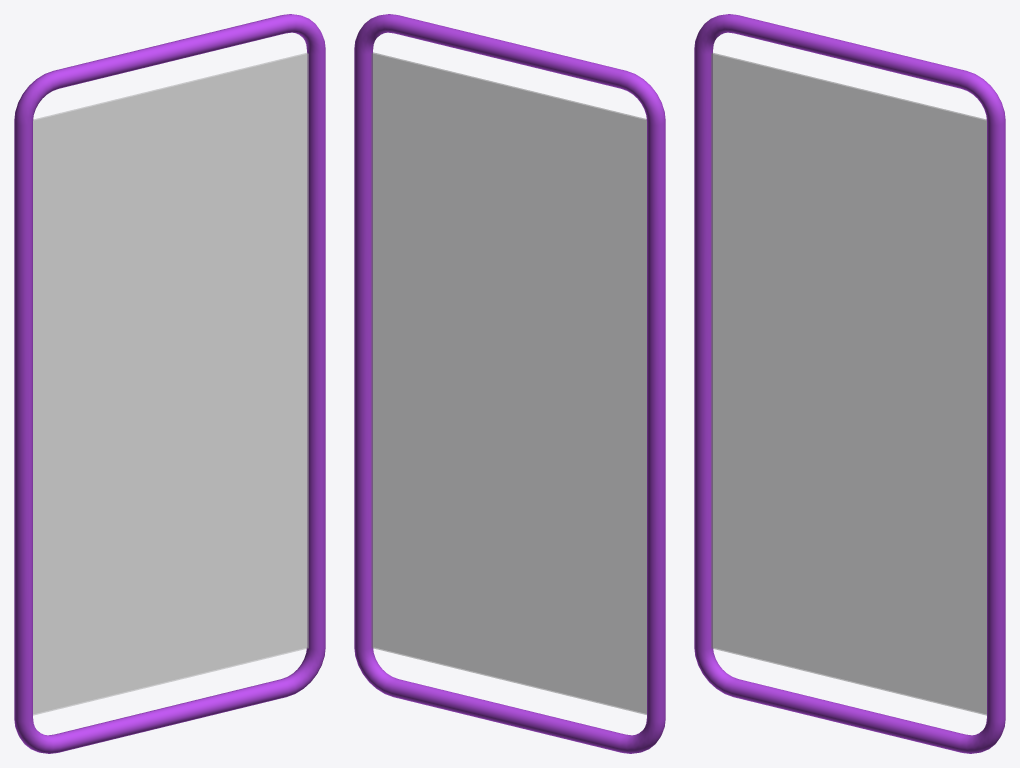
The model's file is Rallings_C_4x2m.FBX.
The picture shows the model from 3 angles, left to right: view 1: azimuth 30°, elevation 25°; view 2: azimuth 150°, elevation 25°; view 3: azimuth 330°, elevation 25°; orthographic projection.
Parts seen in each view (by area): view 1: Rallings_C_4x2m; view 2: Rallings_C_4x2m; view 3: Rallings_C_4x2m.
Part boxes in pixels (x1,y1,x2,y2): Rallings_C_4x2m: [14, 14, 325, 753]; Rallings_C_4x2m: [354, 14, 665, 753]; Rallings_C_4x2m: [694, 14, 1005, 753].
Size of the model in its own units: 190 by 400 by 10.
